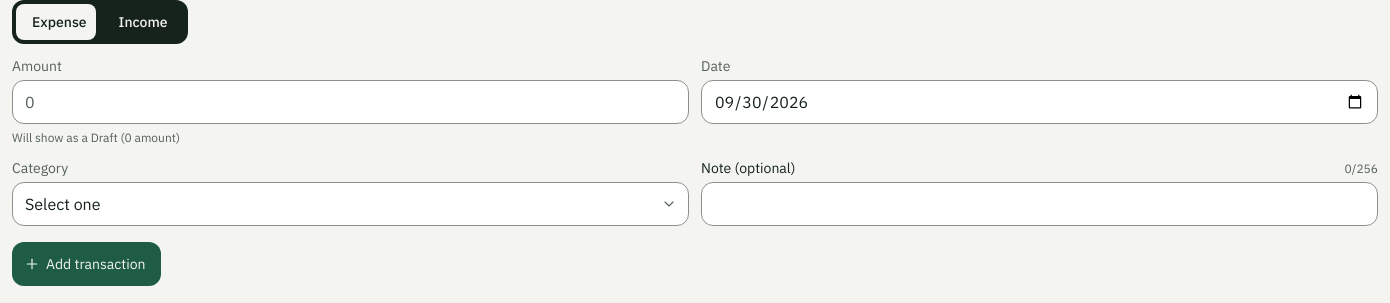
Test: TransactionForm draft hint › shows the Draft hint again if the amount is cleared back to 0
This screenshot has width=1390, height=303.
Type ".01" into the field labelled "Amount" at [350, 102], box [12, 80, 689, 124]
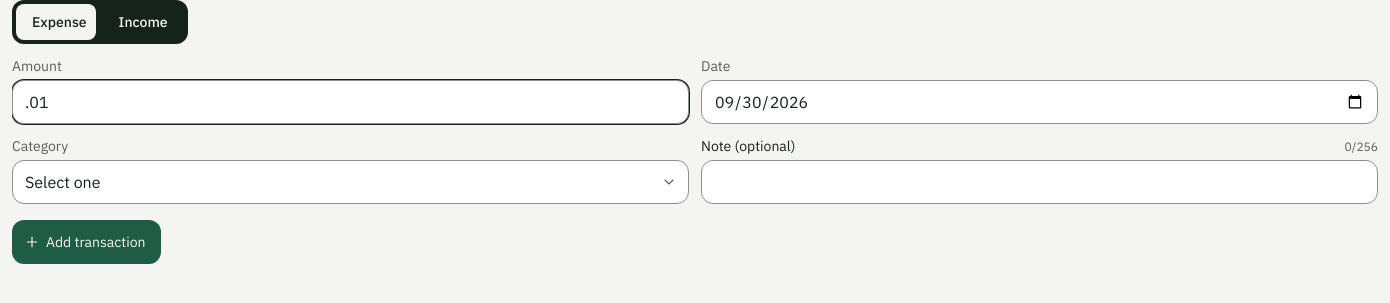
Check: the text "Will show as a Draft" is gone
Replace the text in the field labelled "Amount" with "0" at [350, 102], box [12, 80, 689, 124]
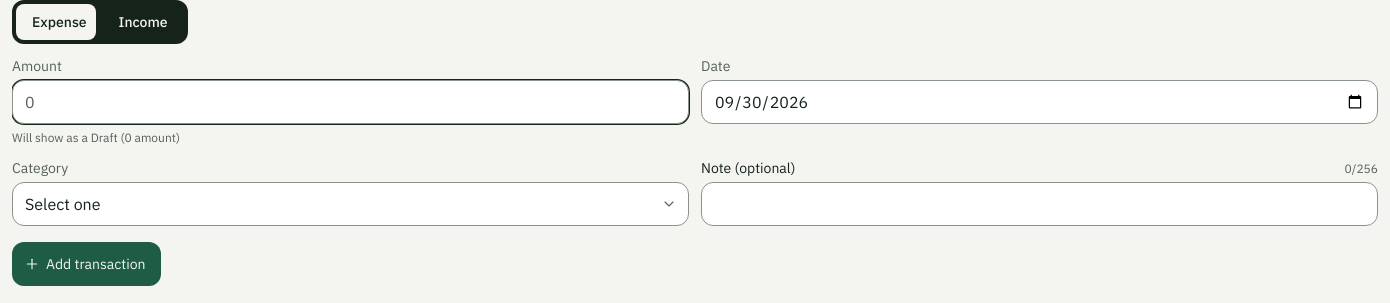
Check: the text "Will show as a Draft (0 amount)" is shown, box [12, 130, 180, 145]
